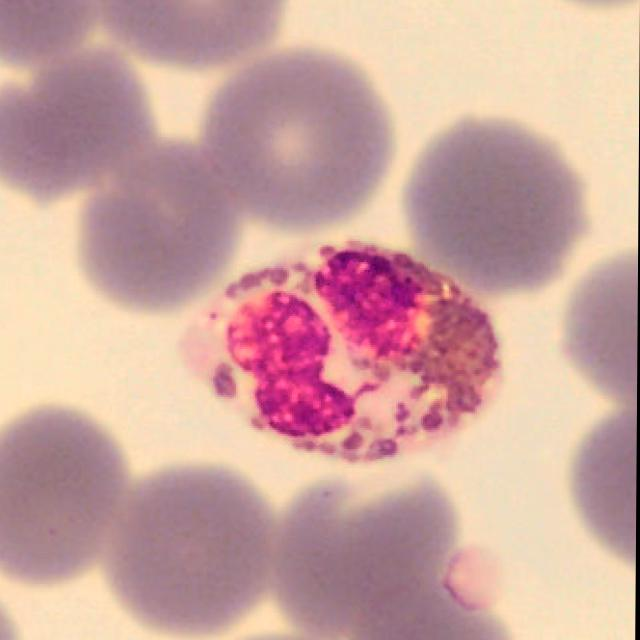Eosinofilo: (177, 241, 503, 465)
